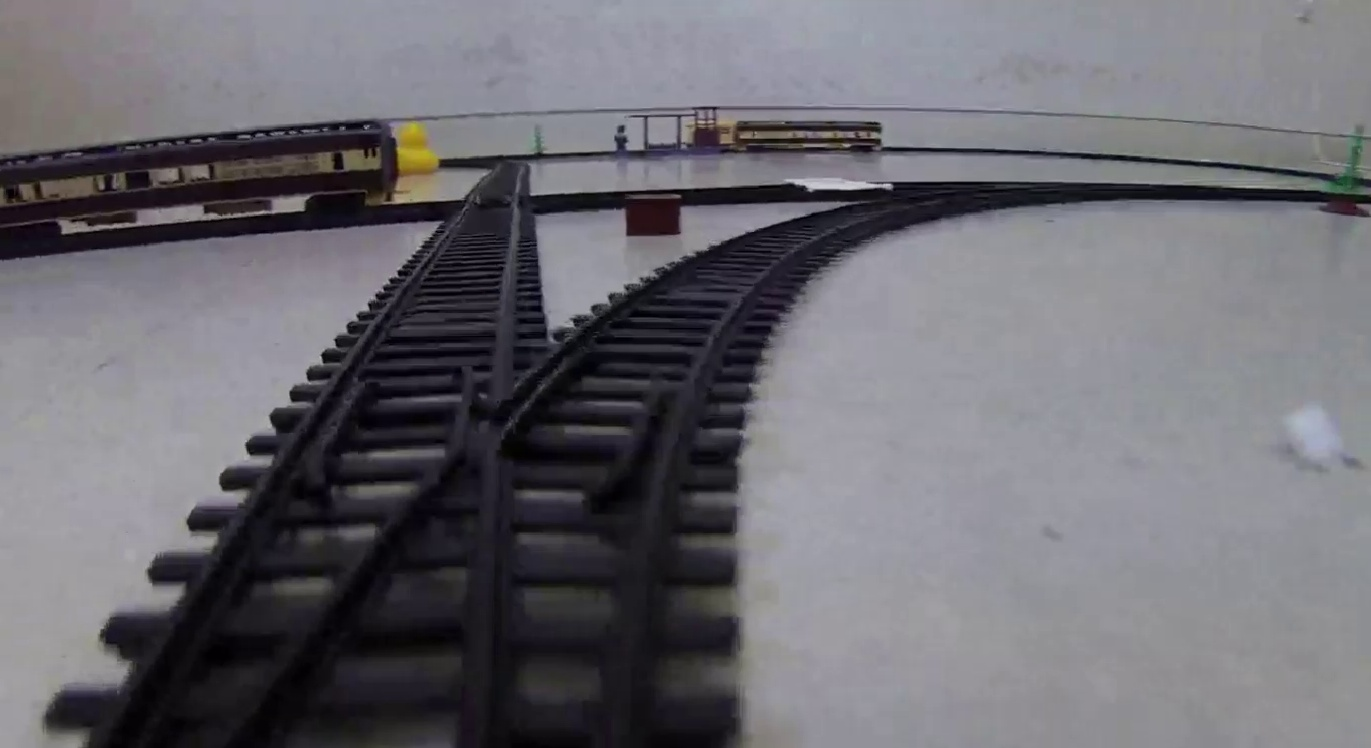box: (626, 193, 681, 232)
web: (780, 172, 895, 195)
